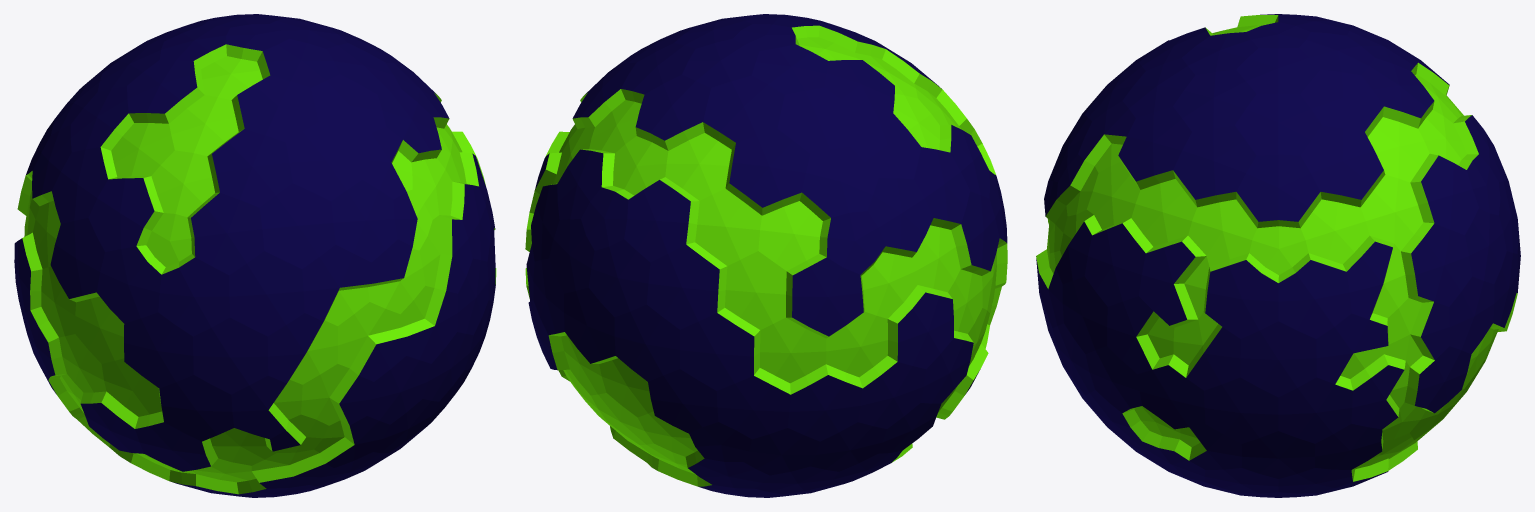
Rendered from Planet5Evo3.glb.
The picture shows the model from 3 angles, left to right: view 1: azimuth 30°, elevation 25°; view 2: azimuth 150°, elevation 25°; view 3: azimuth 270°, elevation 25°; orthographic projection.
Parts seen in each view (by area): view 1: Icosphere.029; view 2: Icosphere.029; view 3: Icosphere.029.
Part boxes in pixels (<box>): Icosphere.029: <box>14,14,496,497</box>; Icosphere.029: <box>525,14,1007,497</box>; Icosphere.029: <box>1036,14,1520,497</box>.
Size of the model in its own units: 1.8 by 1.83 by 1.81.
